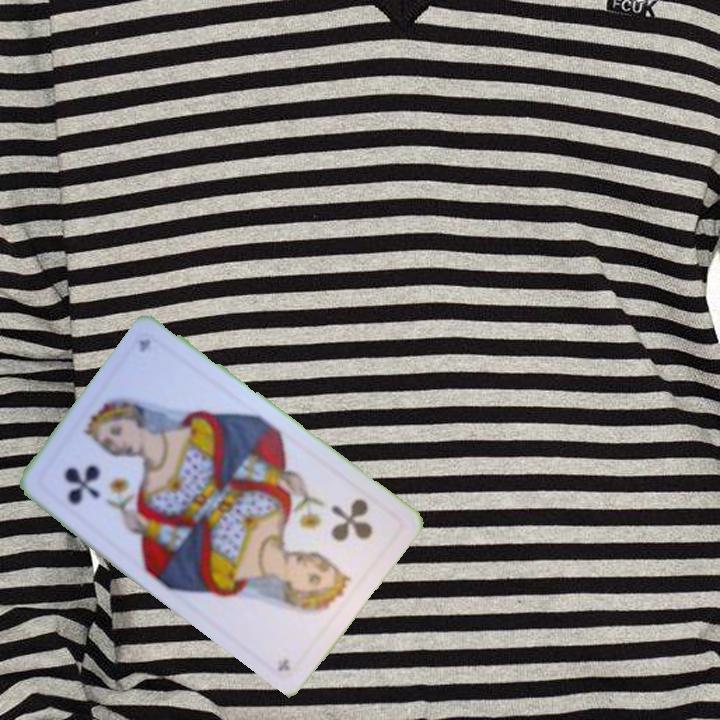c_q.png: (278, 473, 405, 602), (33, 407, 159, 536)
